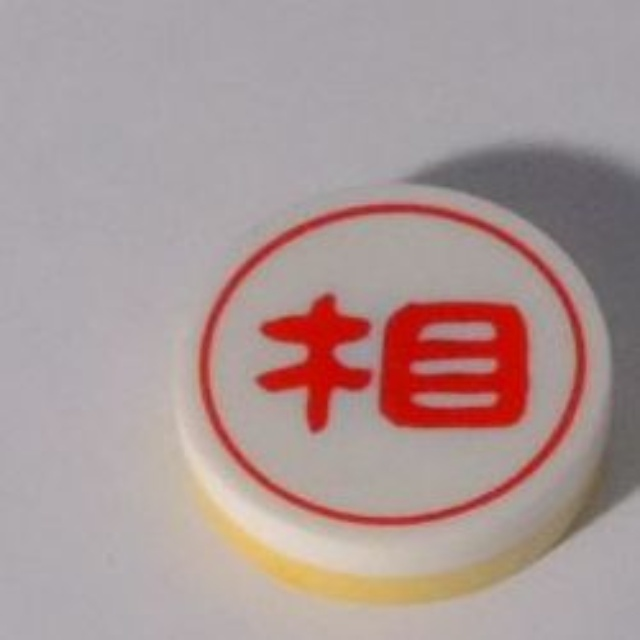red_bo: (168, 174, 618, 603)
